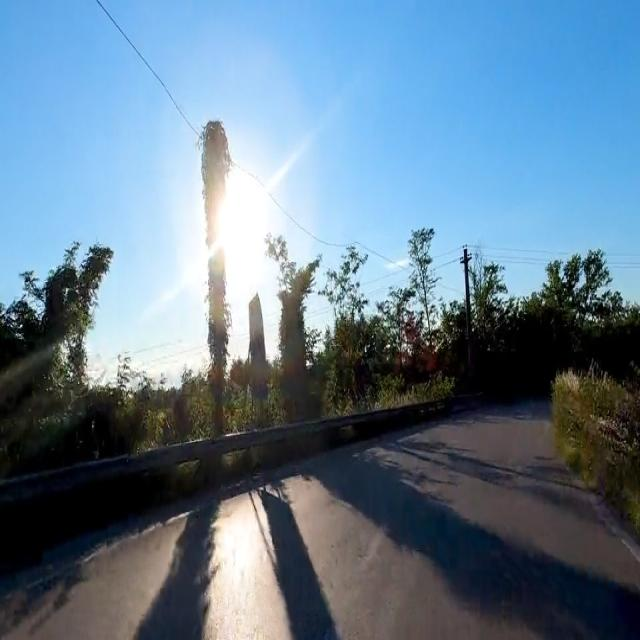lane: (0, 403, 639, 638)
road: (0, 403, 639, 638)
